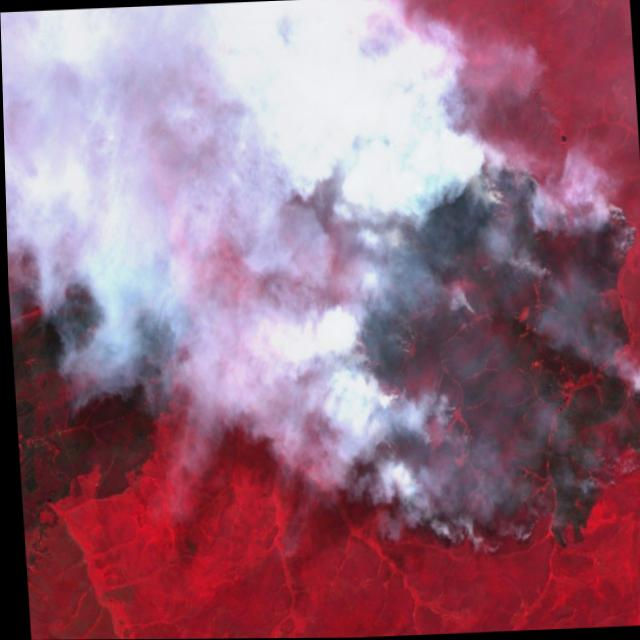fire: (302, 57, 640, 580), (17, 243, 83, 330)
